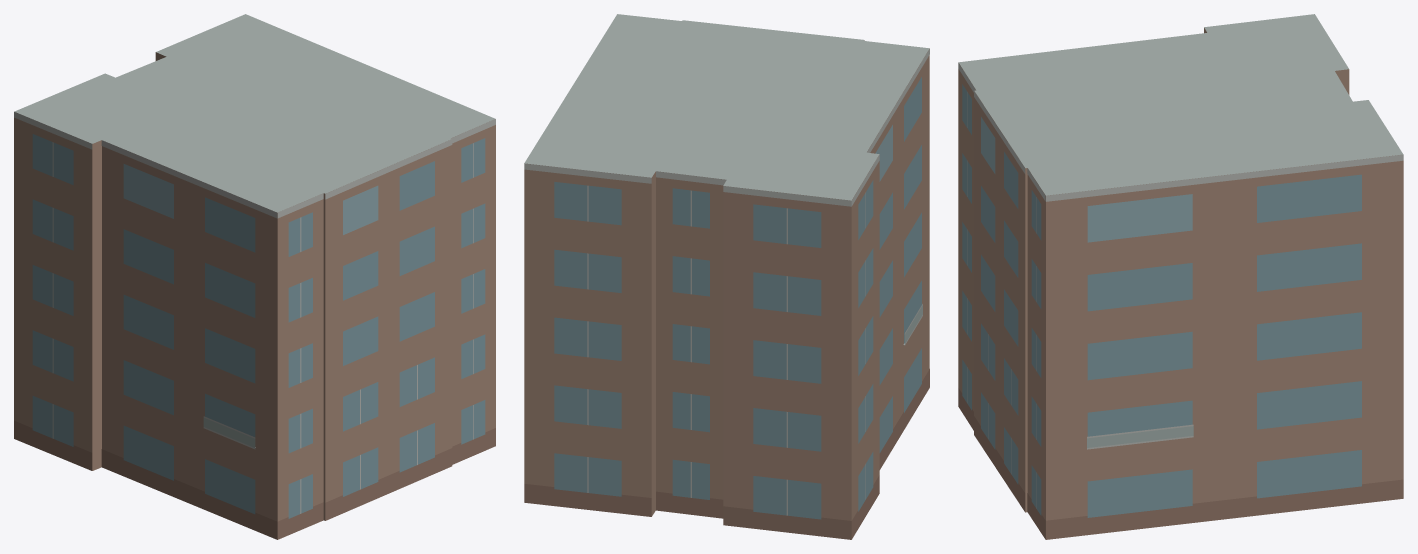
Rendered from survey-upis-32693122.glb.
3 views of the same model, side by side, from view 1: azimuth 30°, elevation 25°; view 2: azimuth 150°, elevation 25°; view 3: azimuth 270°, elevation 25° (orthographic). The views are drawn at different scales.
Parts seen in each view (by area): view 1: survey-upis-32693122.tmp; view 2: survey-upis-32693122.tmp; view 3: survey-upis-32693122.tmp.
Part boxes in pixels (x1,y1,x2,y2): survey-upis-32693122.tmp: (14,14,495,539); survey-upis-32693122.tmp: (524,14,929,539); survey-upis-32693122.tmp: (958,14,1403,539).
Size of the model in its own units: 15.29 by 13.5 by 15.83.
